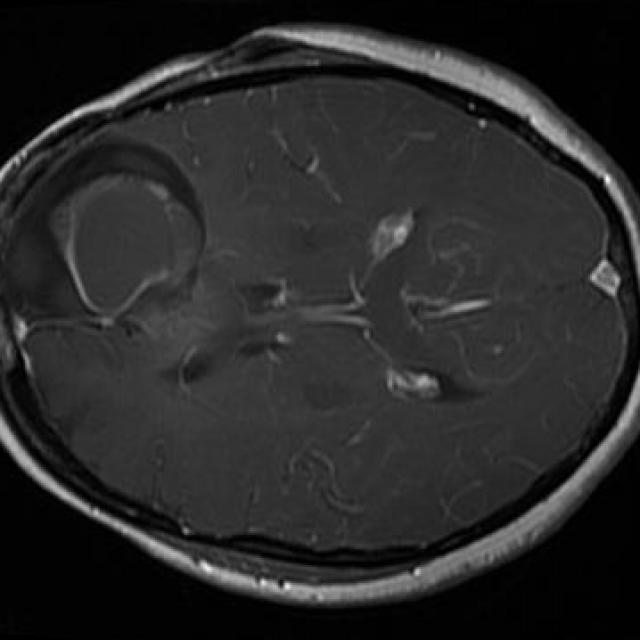glioma: (5, 143, 205, 339)
